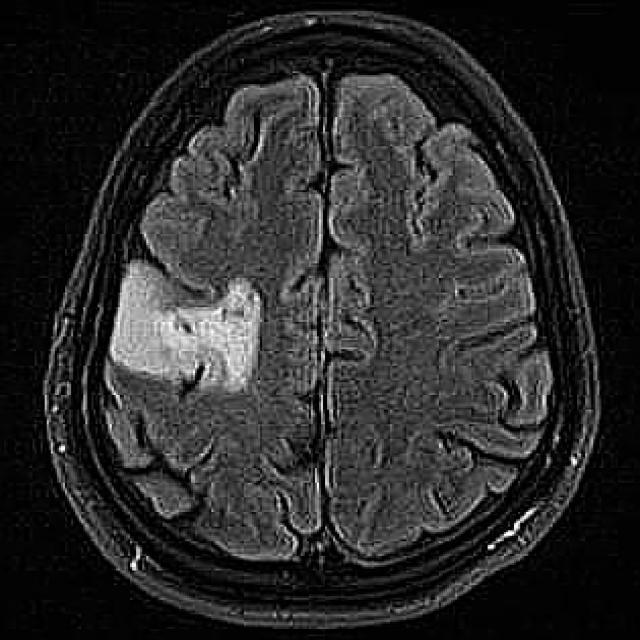Tumor-Cell: (120, 259, 278, 415)
